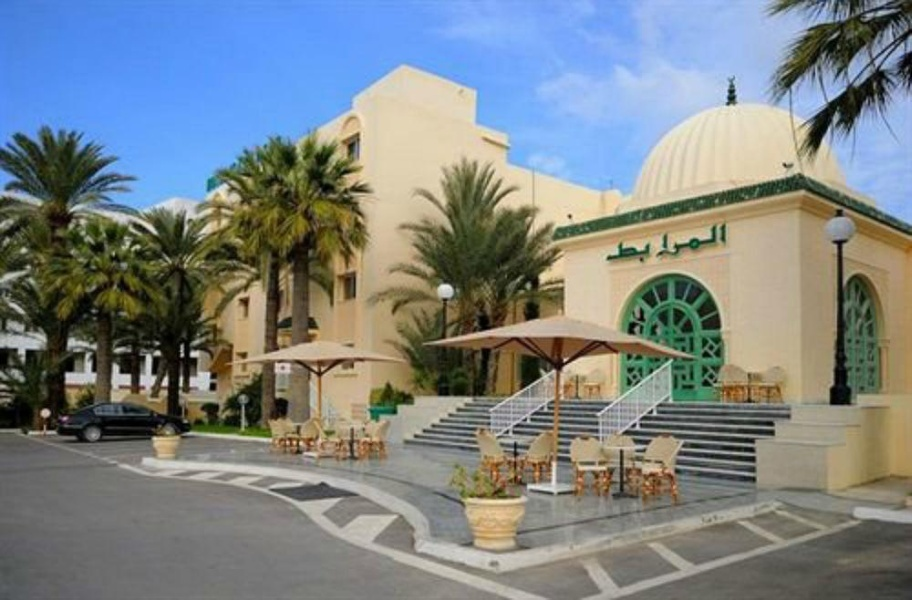text: (609, 219, 624, 269), (625, 219, 640, 269), (641, 219, 656, 269), (657, 219, 672, 269), (673, 219, 688, 269), (689, 219, 704, 269), (705, 219, 720, 269), (721, 219, 733, 269), (606, 219, 608, 269)
